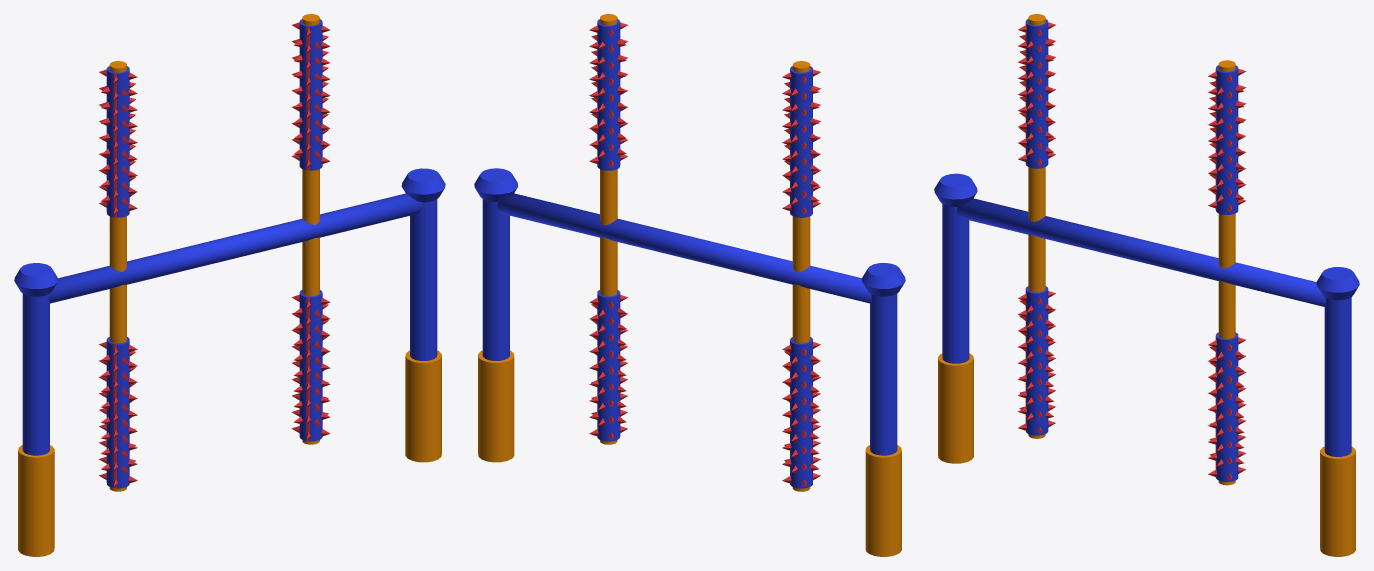
File: engel15.fbx
3 views of the same model, side by side, from view 1: azimuth 30°, elevation 25°; view 2: azimuth 150°, elevation 25°; view 3: azimuth 330°, elevation 25° (orthographic).
Parts seen in each view (by area): view 1: Cylinder.020, Cylinder.019, Cylinder.013, Cylinder.018, Cylinder.017; view 2: Cylinder.019, Cylinder.020, Cylinder.013, Cylinder.018, Cylinder.017; view 3: Cylinder.020, Cylinder.019, Cylinder.018, Cylinder.013, Cylinder.017.
Part boxes in pixels (x1,y1,x2,y2): Cylinder.020: [291, 14, 330, 444]; Cylinder.019: [99, 61, 137, 491]; Cylinder.013: [14, 263, 58, 556]; Cylinder.018: [401, 168, 445, 462]; Cylinder.017: [48, 193, 422, 303]; Cylinder.019: [782, 61, 820, 491]; Cylinder.020: [589, 14, 627, 444]; Cylinder.013: [861, 263, 905, 556]; Cylinder.018: [474, 168, 518, 462]; Cylinder.017: [497, 193, 871, 303]; Cylinder.020: [1208, 60, 1246, 485]; Cylinder.019: [1018, 14, 1055, 438]; Cylinder.018: [1316, 267, 1359, 556]; Cylinder.013: [934, 173, 977, 463]; Cylinder.017: [956, 198, 1326, 306].
Size of the model in its own units: 1029 by 1073 by 92.99.
